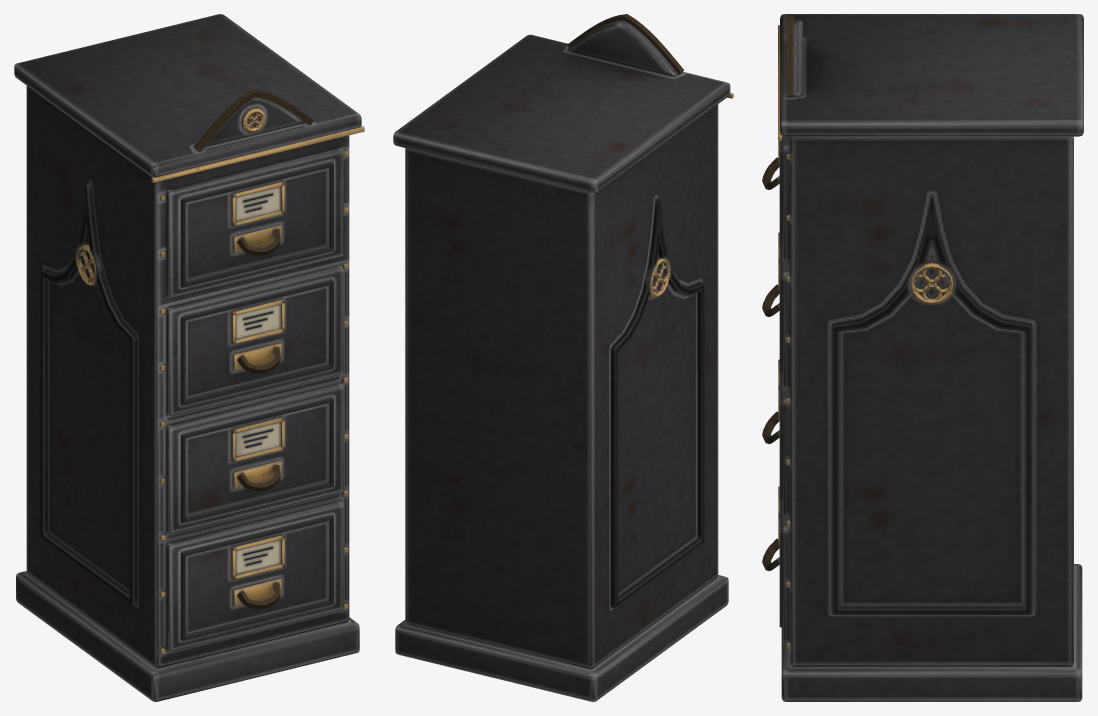
Rendered from FilingCabinet.fbx.
3 renders of one model, left to right at view 1: azimuth 30°, elevation 25°; view 2: azimuth 150°, elevation 25°; view 3: azimuth 270°, elevation 25°, orthographic. The views are drawn at different scales.
Parts seen in each view (by area): view 1: FilingCabinet_Main, FilingCabinet_Drawer0; view 2: FilingCabinet_Main; view 3: FilingCabinet_Main, FilingCabinet_Drawer0.
Part boxes in pixels (bbox=[...]): FilingCabinet_Main: bbox=[14, 14, 364, 701]; FilingCabinet_Drawer0: bbox=[166, 147, 343, 298]; FilingCabinet_Main: bbox=[393, 14, 733, 701]; FilingCabinet_Main: bbox=[762, 14, 1083, 701]; FilingCabinet_Drawer0: bbox=[762, 136, 789, 262].
Bounding box in the file's own units: 186 × 491 × 227.
